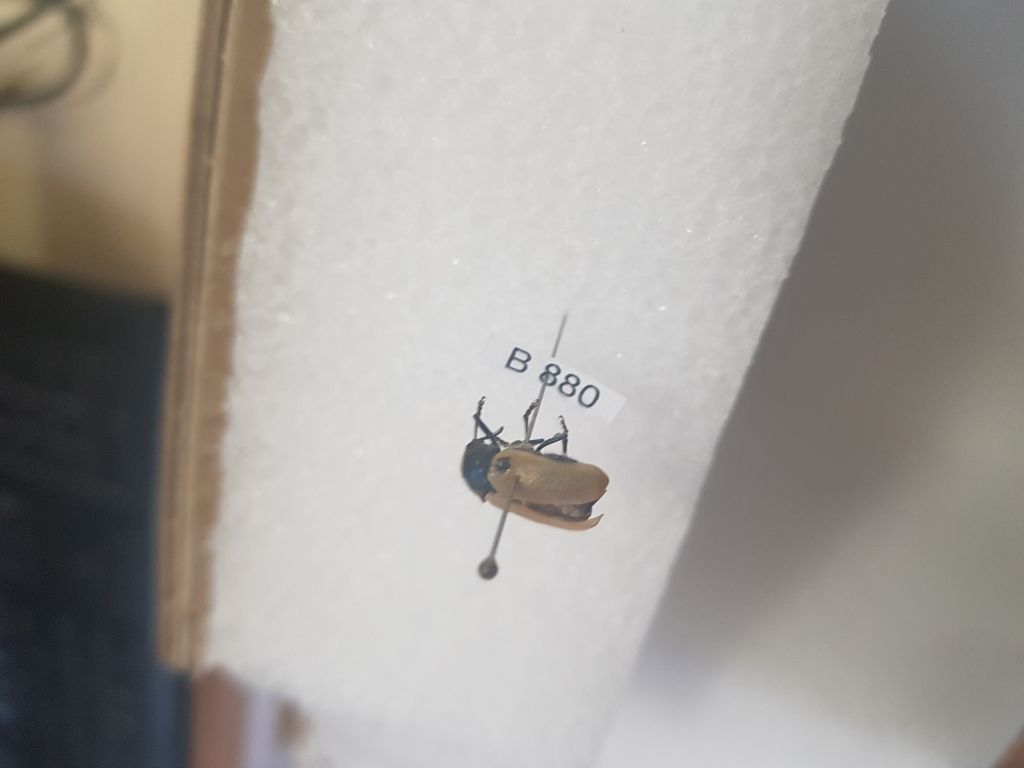Labidostomis_asiatica: (451, 390, 613, 532)
